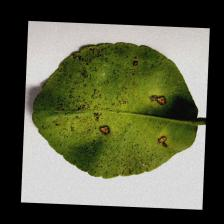canker: (60, 40, 173, 162)
